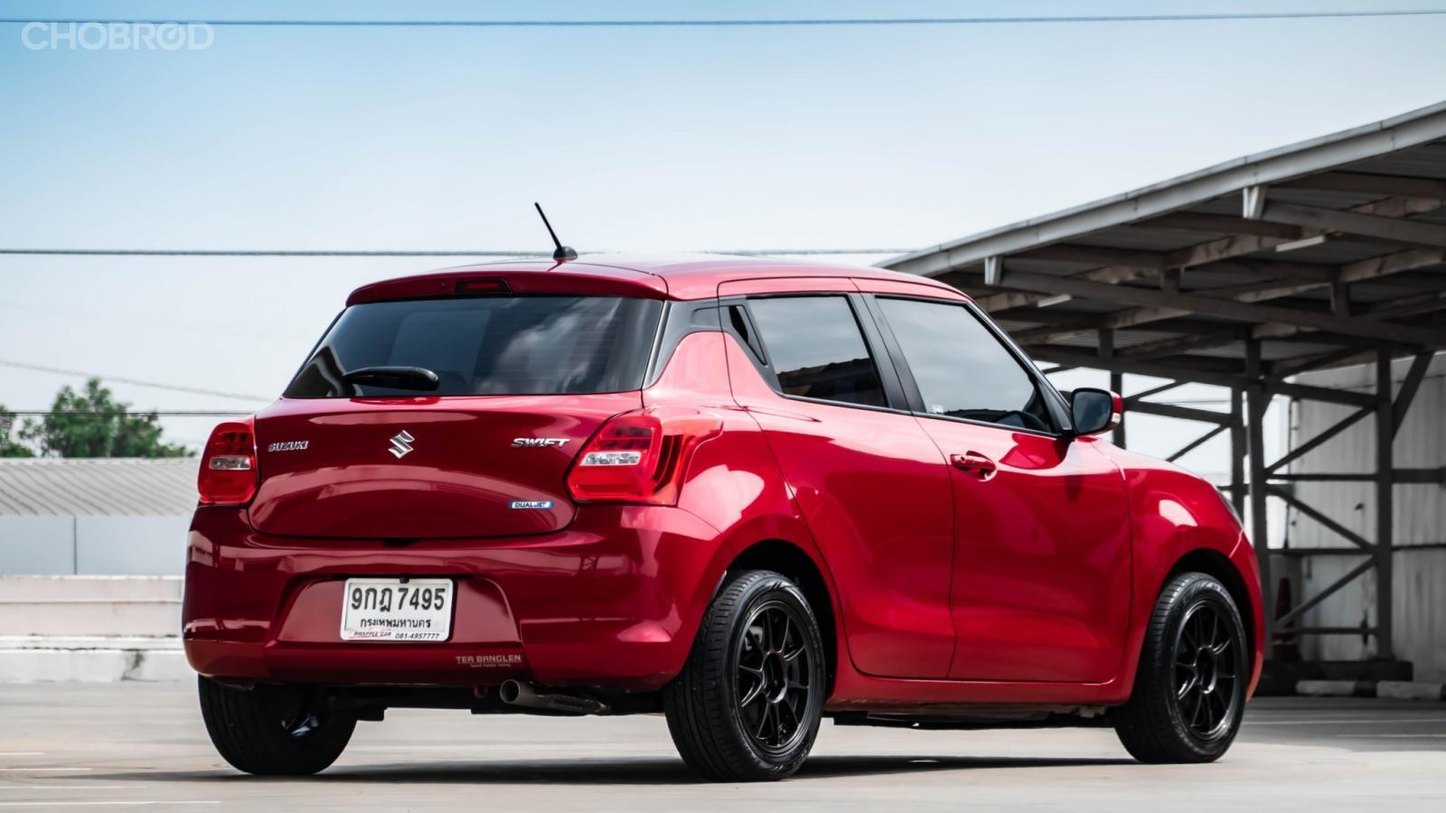license-plate: (336, 567, 458, 649)
